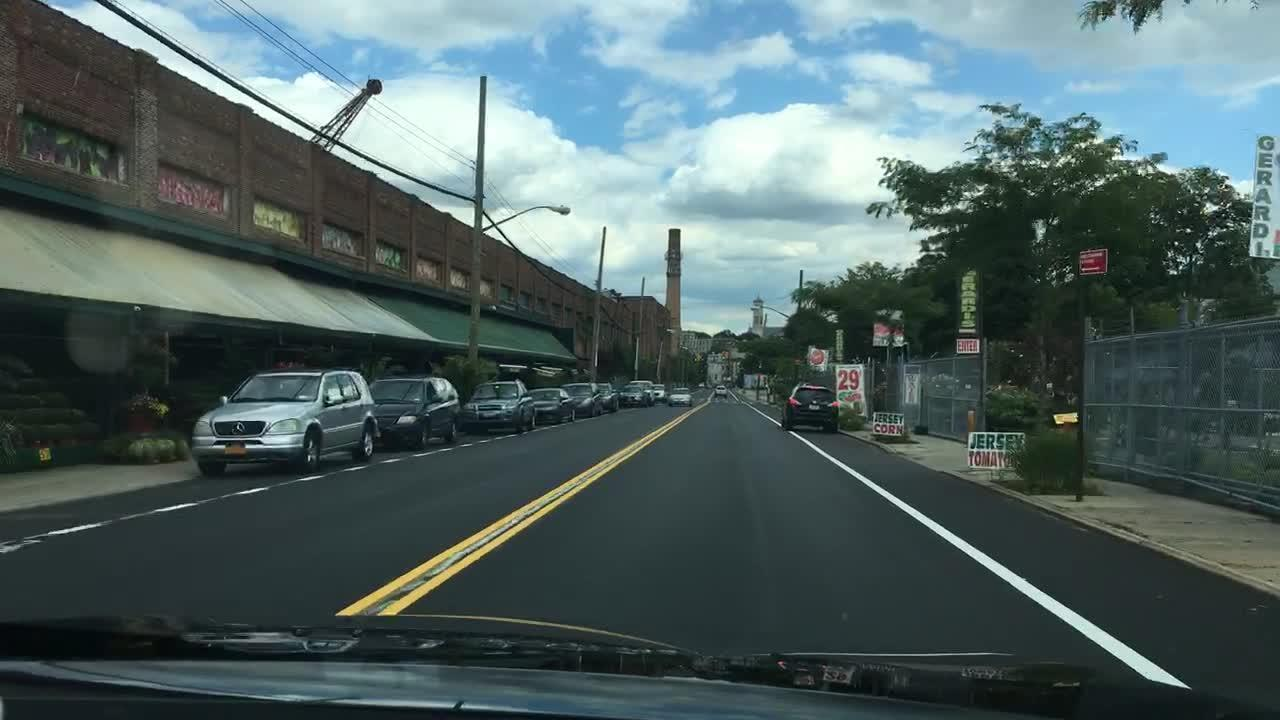Mercedes: (229, 421, 248, 435)
